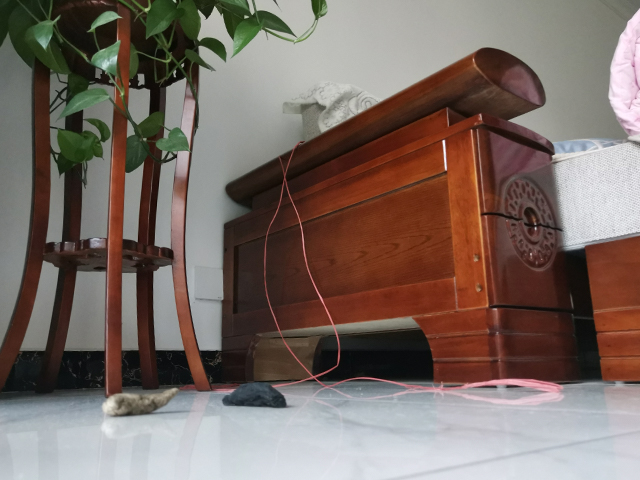feces: (100, 387, 180, 418), (220, 381, 289, 410)
sofa: (217, 45, 639, 389)
